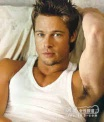male: (28, 3, 83, 68)
